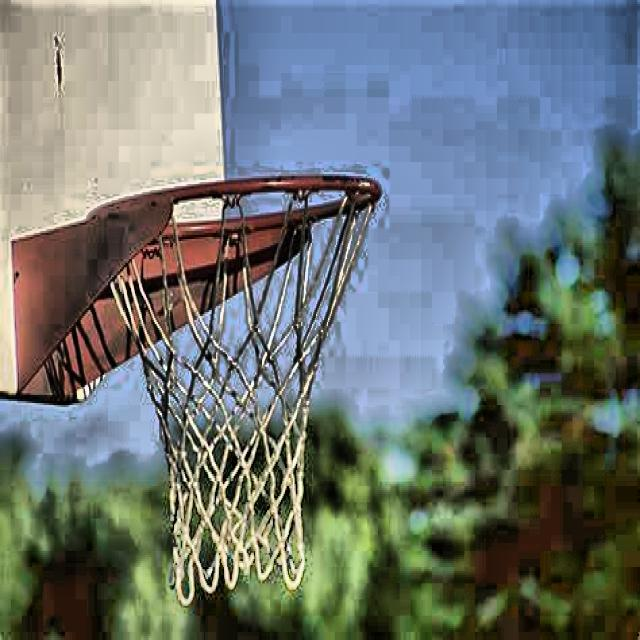rim: (87, 171, 383, 597)
